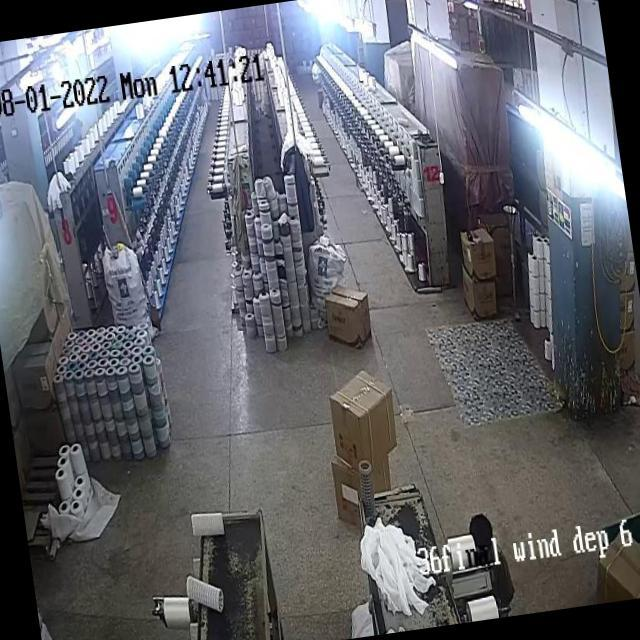person: (468, 505, 520, 601)
